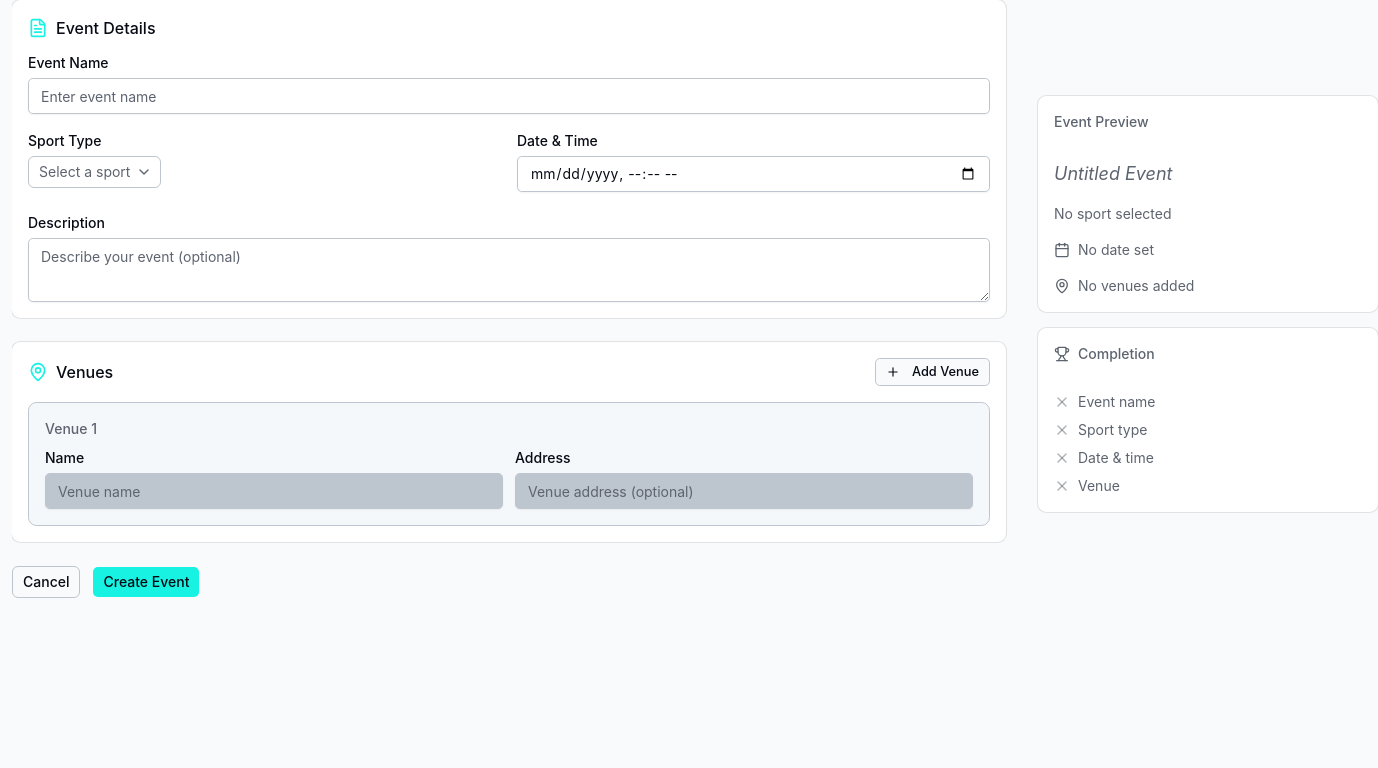
Scenario: EventForm › shows validation errors and blocks submission when required fields are missing
The width and height of the screenshot is (1378, 768).
Click the button "Create Event". click: coordinates (146, 582)
box: [92,566,200,598]
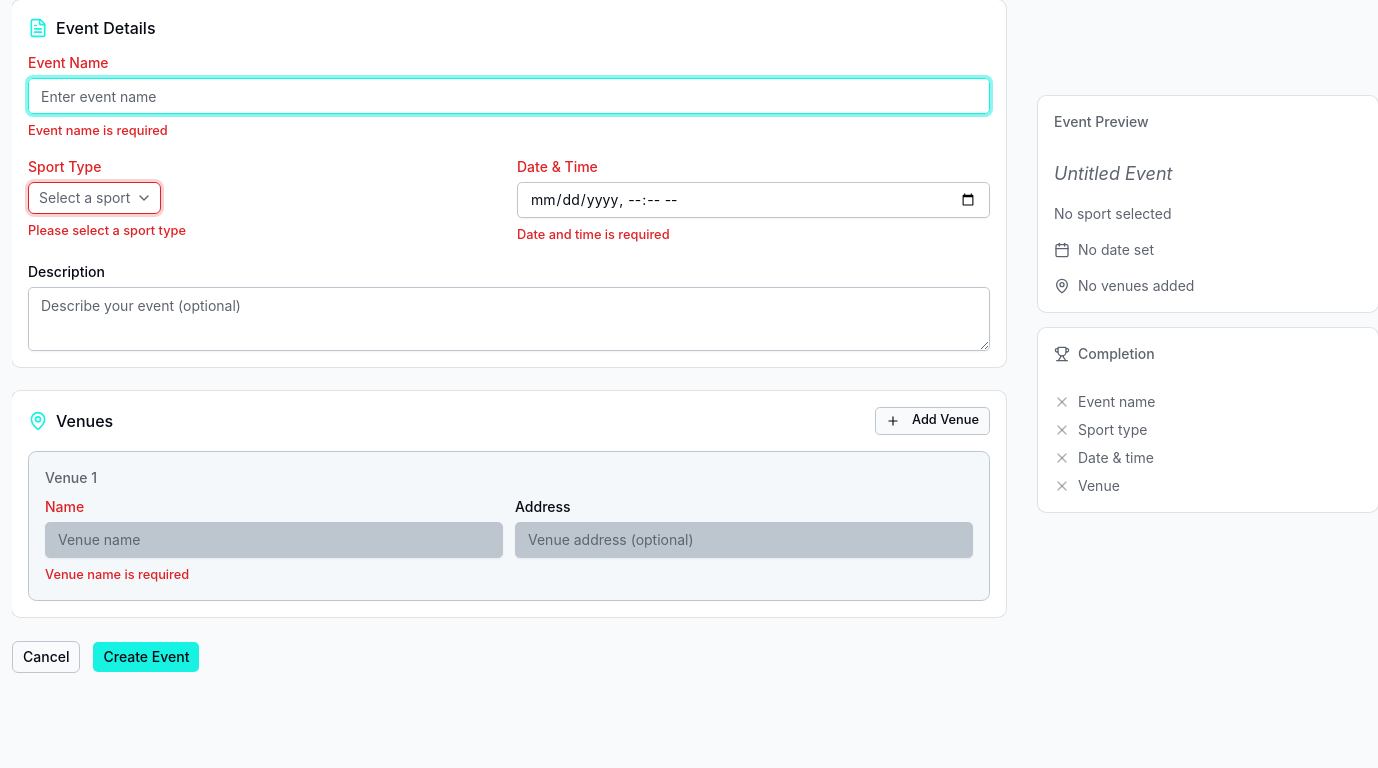
Expected: the text "Event name is required" is shown, [28,123,168,138]
Expected: the text "Please select a sport type" is shown, [28,223,186,238]
Expected: the text "Date and time is required" is shown, [517,227,670,242]
